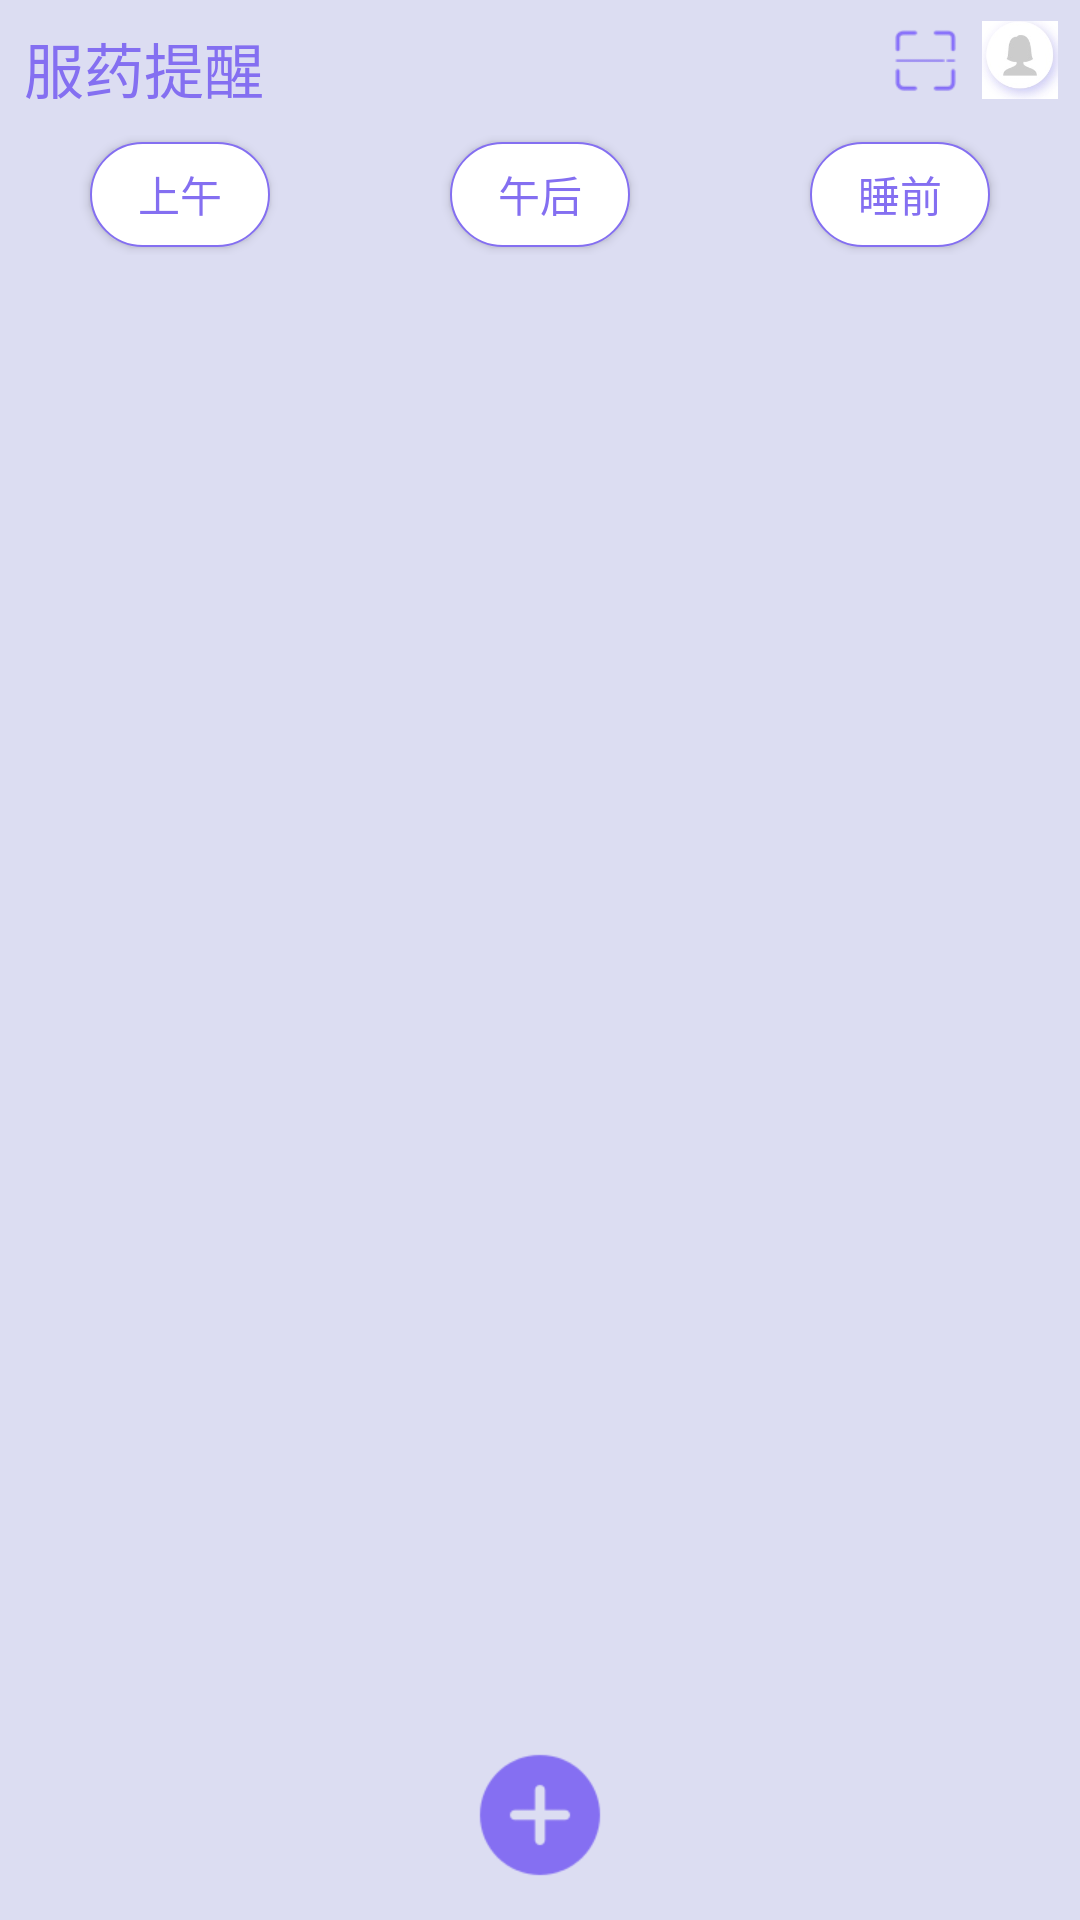

Named icons in this screenshot (1080px×1920px) and their bounding boxes, [x1, y1, x2, y2]:
add medicine: [480, 1755, 600, 1875]
person: [982, 21, 1058, 99]
saosao: [895, 30, 956, 91]
